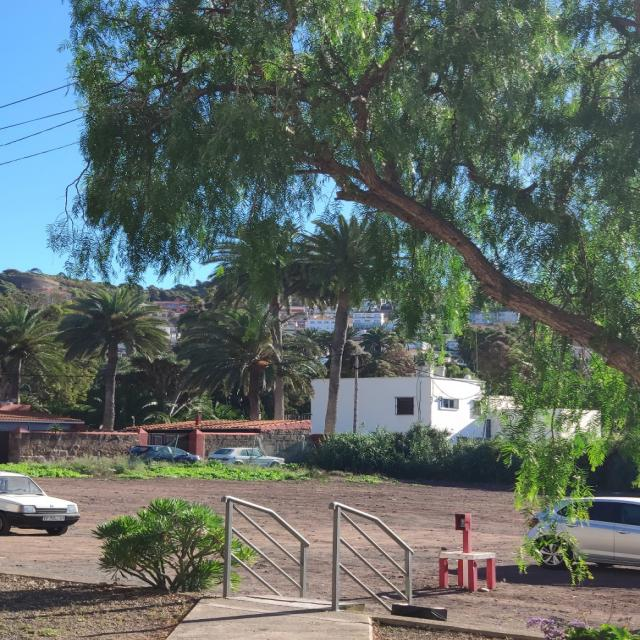Palm-Trees: (301, 213, 387, 436), (54, 289, 174, 431)
